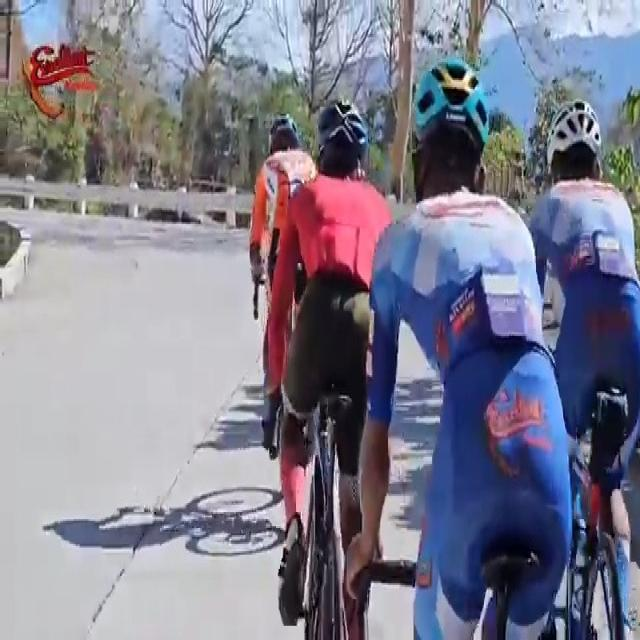bike: (356, 40, 574, 640), (262, 94, 389, 640), (525, 92, 640, 640), (250, 113, 314, 468)
